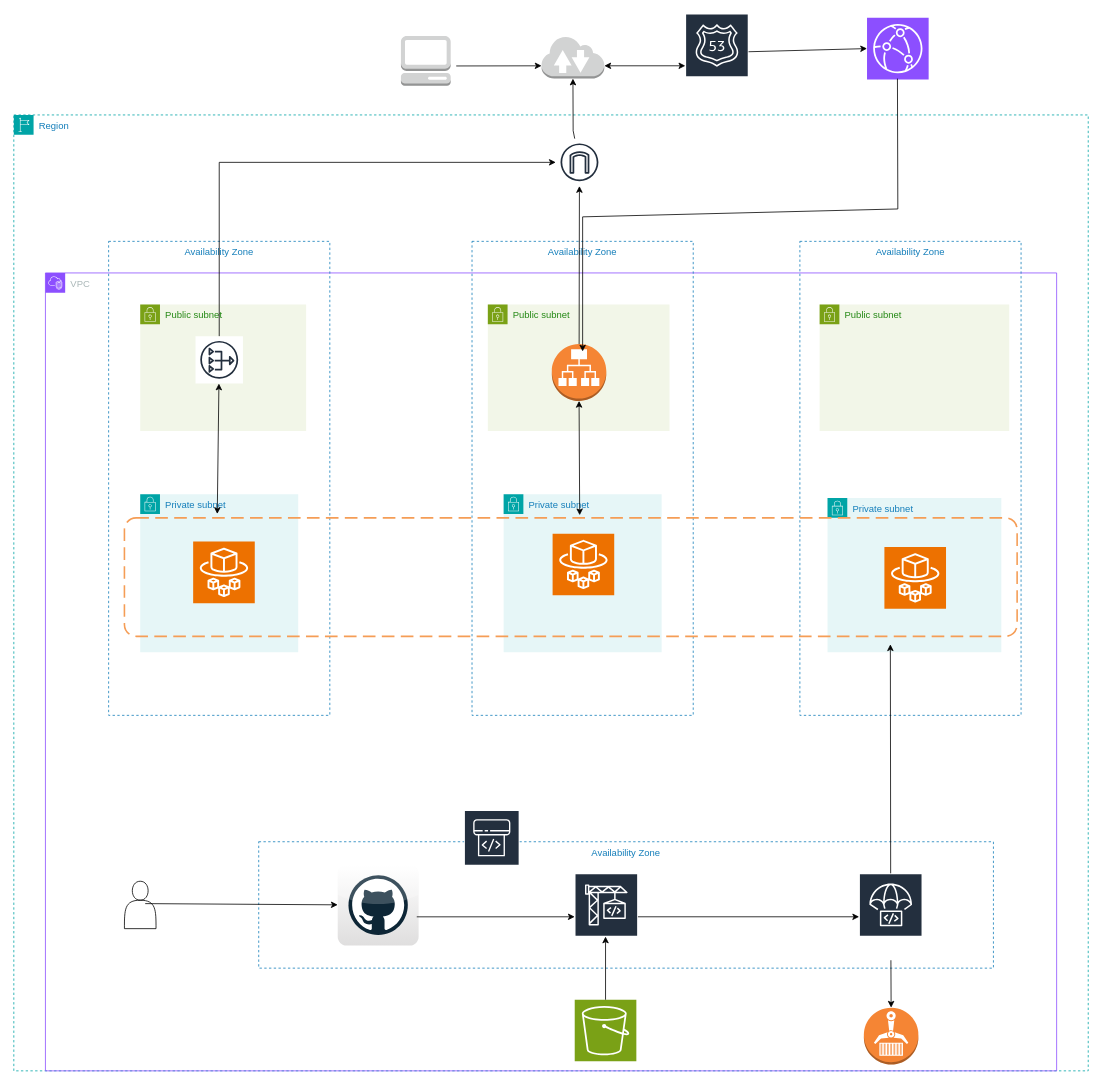
Some shapes in this 1102 by 1085 pixel diagram are drawn without their labels. The shapes that lost their labels are listed below. From the top down, each one's centre as x and y in pixels, then its label:
At [717,57]: "Amazon Route 53".
At [579,162]: "Internet gateway".
At [219,359]: "NAT gateway".
At [491,845]: "AWS CodePipeline".
At [606,916]: "AWS CodeBuild".
At [890,916]: "AWS CodeDeploy".
